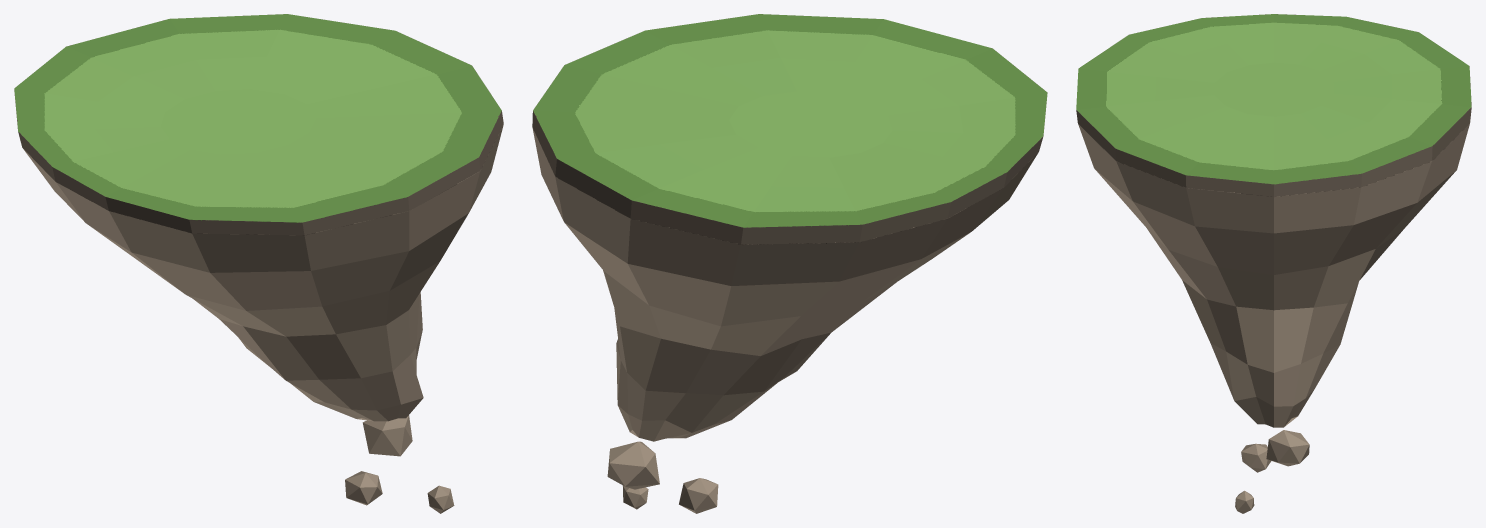
File: AST03b_Island02_Skills.glb
3 renders of one model, left to right at view 1: azimuth 30°, elevation 25°; view 2: azimuth 150°, elevation 25°; view 3: azimuth 270°, elevation 25°, orthographic. The views are drawn at different scales.
Visible parts, largest first — view 1: AST03b_Island02_Skills; view 2: AST03b_Island02_Skills; view 3: AST03b_Island02_Skills.
Part boxes in pixels (x1=…): AST03b_Island02_Skills: x1=14, y1=14, x2=503, y2=513; AST03b_Island02_Skills: x1=532, y1=14, x2=1047, y2=513; AST03b_Island02_Skills: x1=1076, y1=14, x2=1471, y2=513.
Bounding box in the file's own units: 16 × 15.5 × 15.73.
1 material, 1 textured.
